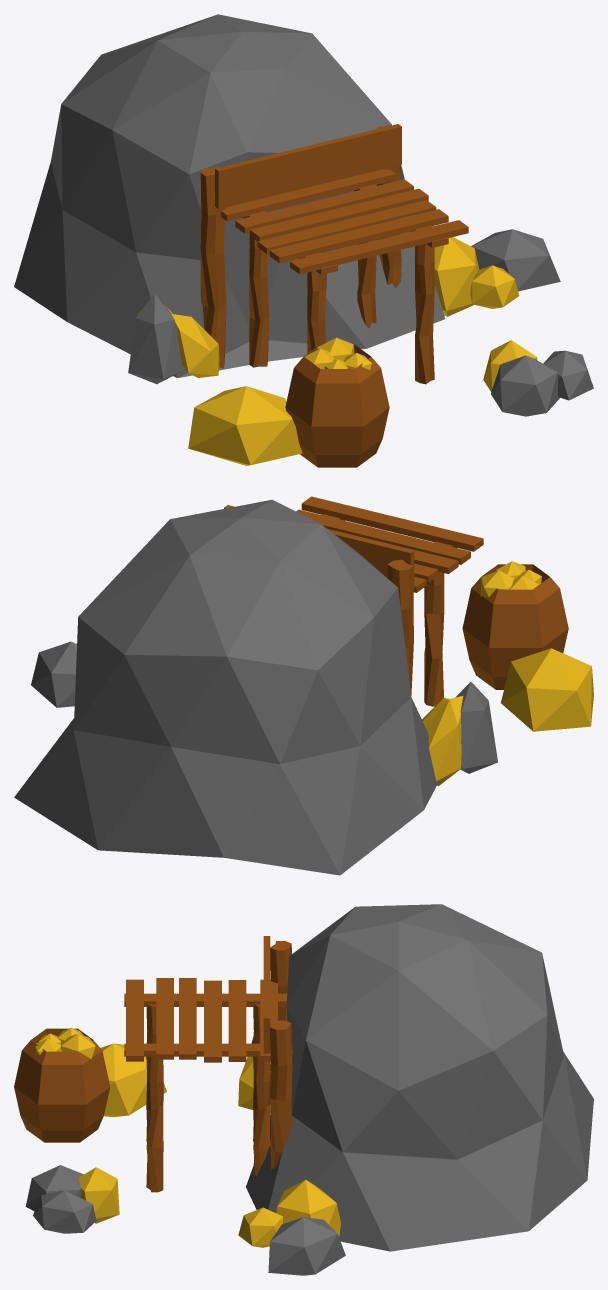
The model's file is Mina_Nv2.glb.
3 renders of one model, top to bottom at view 1: azimuth 30°, elevation 25°; view 2: azimuth 150°, elevation 25°; view 3: azimuth 270°, elevation 25°, orthographic. The views are drawn at different scales.
Parts seen in each view (by area): view 1: Icosphere.001; view 2: Icosphere.001; view 3: Icosphere.001.
Part boxes in pixels (<box>): Icosphere.001: <box>14,14,593,467</box>; Icosphere.001: <box>14,496,593,875</box>; Icosphere.001: <box>14,904,593,1275</box>.
Bounding box in the file's own units: 1.74 × 1.05 × 2.1.
